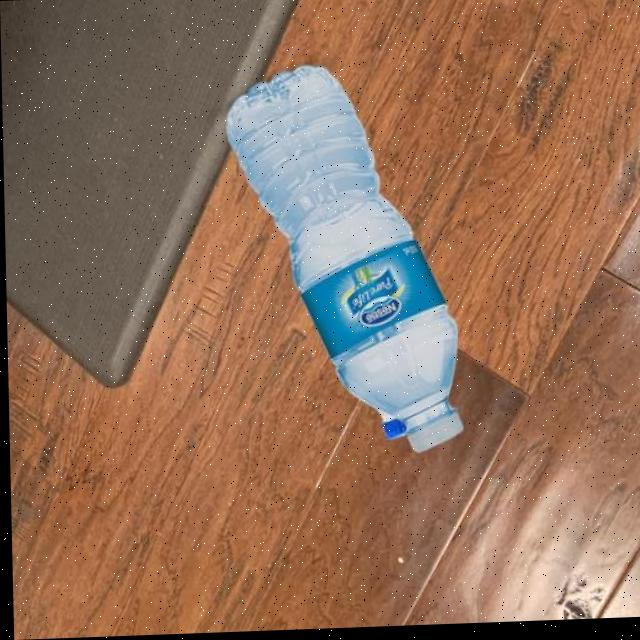bottle: (221, 62, 463, 463)
